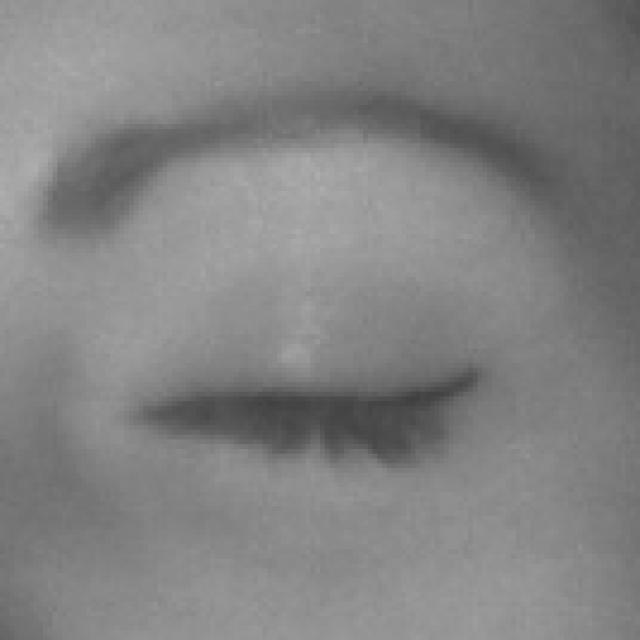Eyeclosed: (126, 266, 490, 568)
